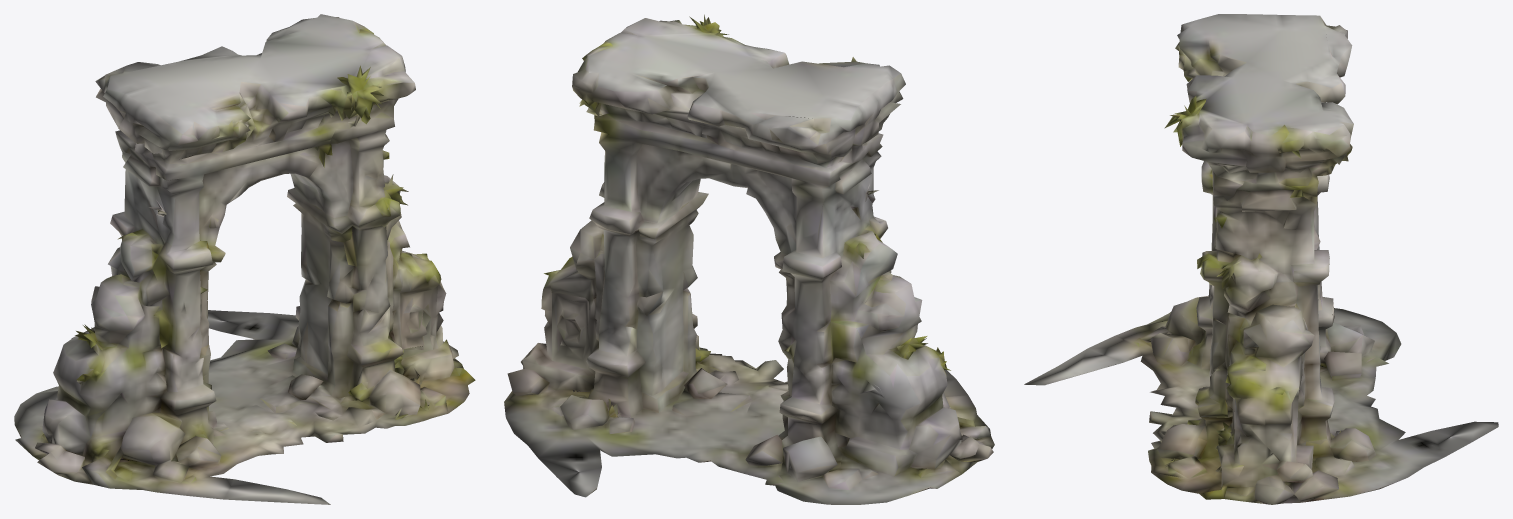
The model's file is stone-gate.glb.
3 views of the same model, side by side, from view 1: azimuth 30°, elevation 25°; view 2: azimuth 150°, elevation 25°; view 3: azimuth 270°, elevation 25° (orthographic). The views are drawn at different scales.
Parts seen in each view (by area): view 1: low; view 2: low; view 3: low.
Boxes of the visible parts, box(x1,y1,x2,y2) form: low: box(14, 14, 475, 504); low: box(504, 14, 994, 504); low: box(1024, 14, 1498, 504).
Bounding box in the file's own units: 5.27 × 4 × 5.02.
Materials: 1 (1 with a texture image).
